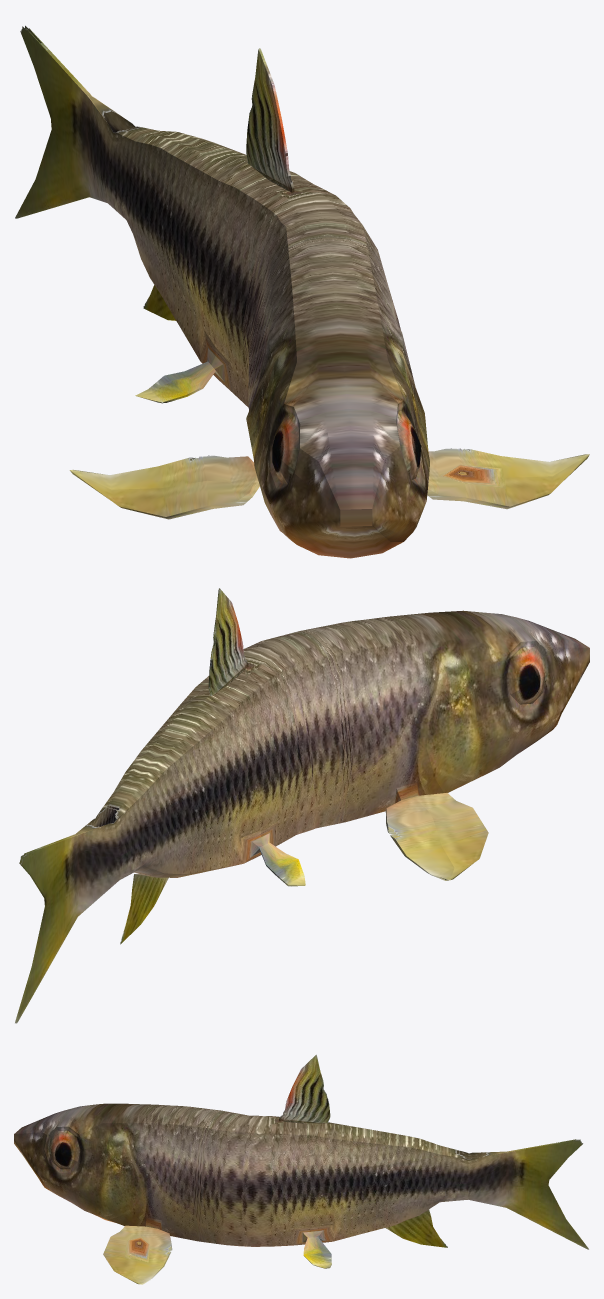
Rendered from kawamutu1.fbx.
The picture shows the model from 3 angles, top to bottom: view 1: azimuth 30°, elevation 25°; view 2: azimuth 150°, elevation 25°; view 3: azimuth 270°, elevation 25°; orthographic projection. The views are drawn at different scales.
Visible parts, largest first — view 1: kawamutu_kurumeusu_mimura:kawamutu_kurumeusu_mimurapCube1; view 2: kawamutu_kurumeusu_mimura:kawamutu_kurumeusu_mimurapCube1; view 3: kawamutu_kurumeusu_mimura:kawamutu_kurumeusu_mimurapCube1.
Boxes of the visible parts, left/top/right/bottom form: kawamutu_kurumeusu_mimura:kawamutu_kurumeusu_mimurapCube1: left=15, top=25, right=589, bottom=558; kawamutu_kurumeusu_mimura:kawamutu_kurumeusu_mimurapCube1: left=15, top=588, right=589, bottom=1023; kawamutu_kurumeusu_mimura:kawamutu_kurumeusu_mimurapCube1: left=14, top=1054, right=589, bottom=1284.
Bounding box in the file's own units: 8.2 × 6.8 × 18.14.
